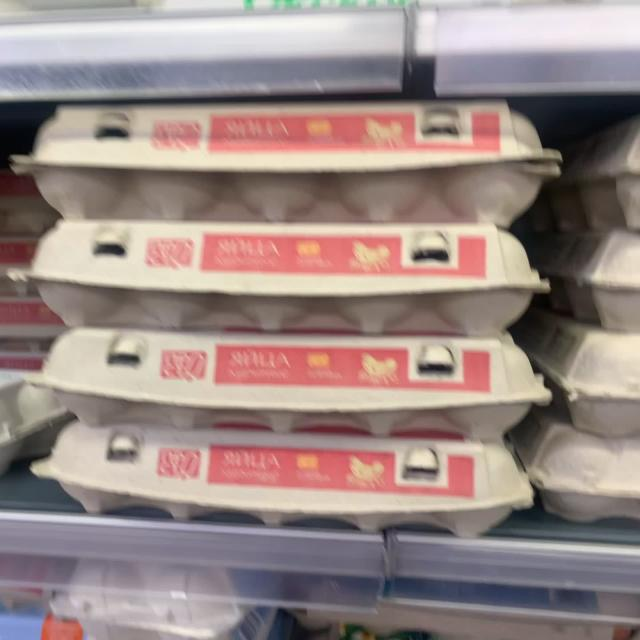egg box: (12, 210, 540, 340), (12, 108, 554, 221), (37, 414, 533, 533), (38, 332, 540, 445)
